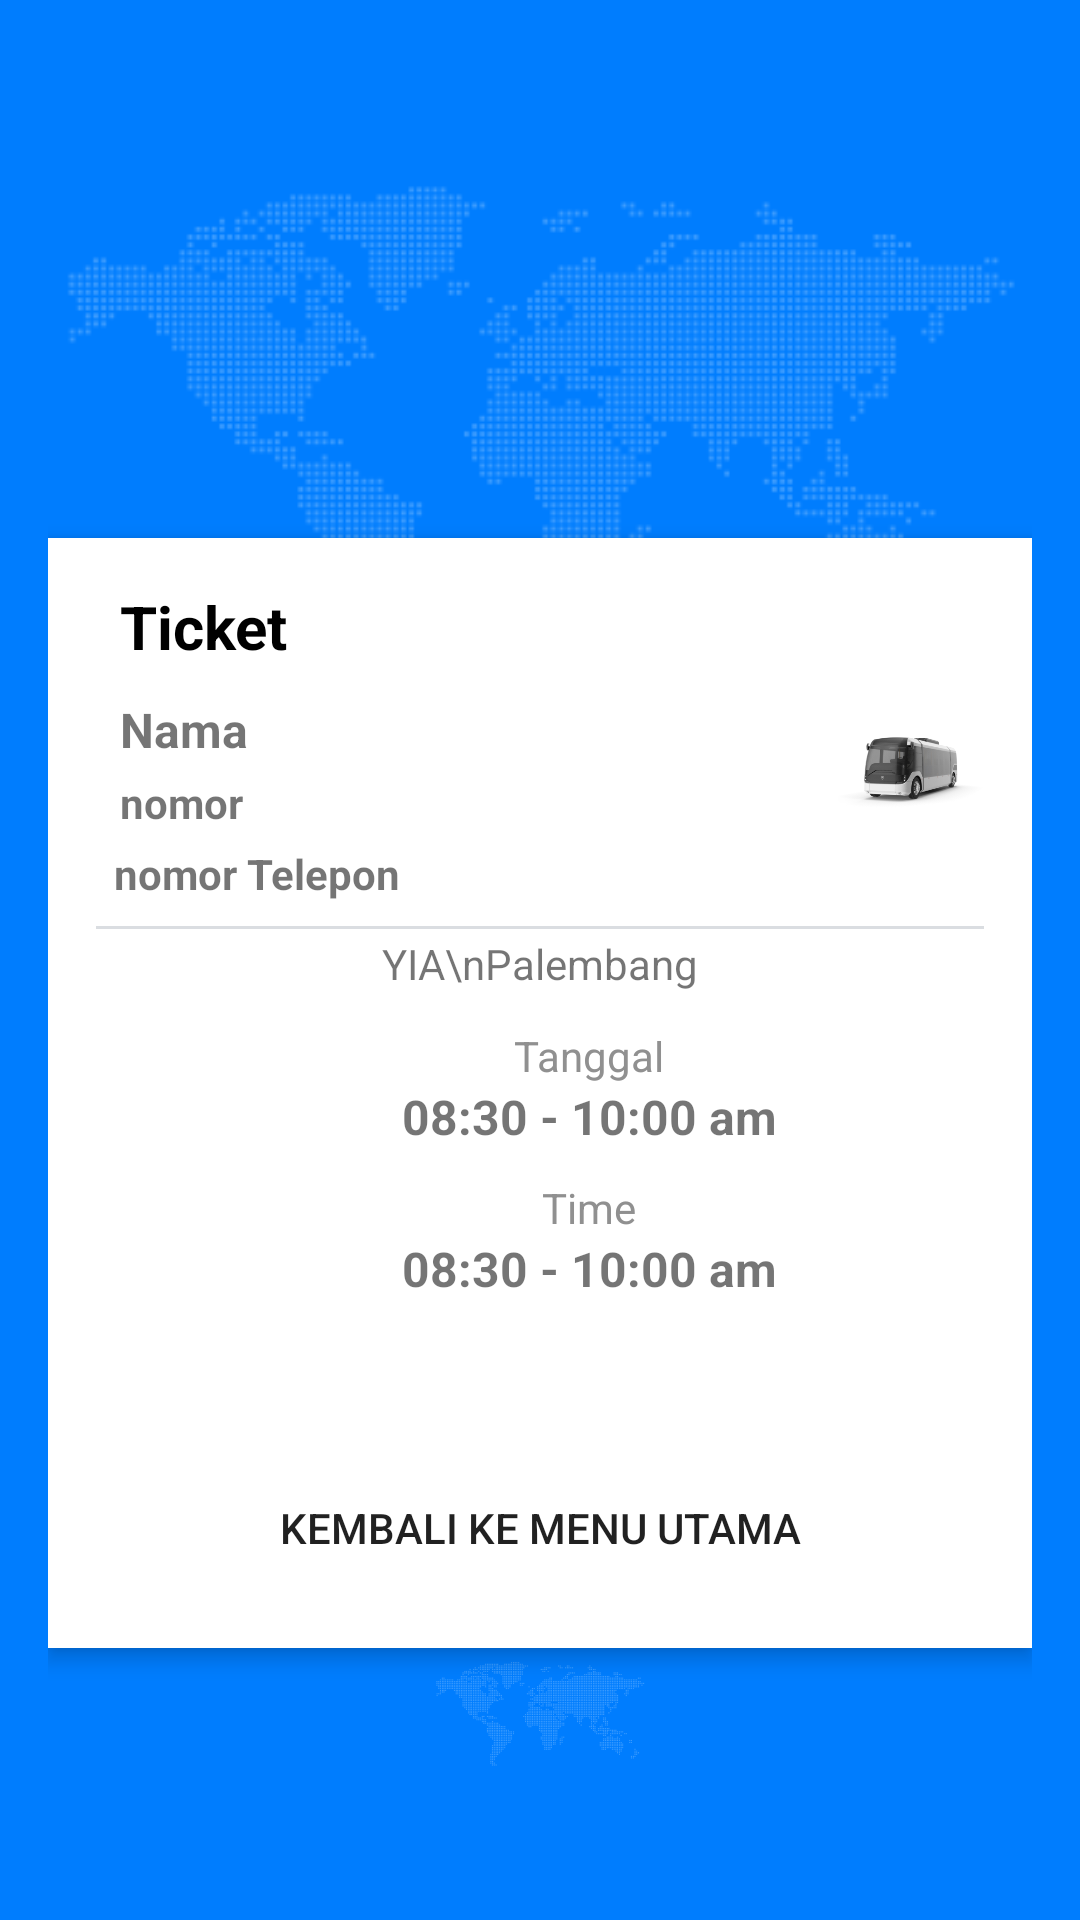

Named icons in this screenshot (1080px x 1920px) and their bounding boxes, [left=x1, top=y1, right=x2, bottom=y2]:
bus: [left=864, top=737, right=960, bottom=802]
